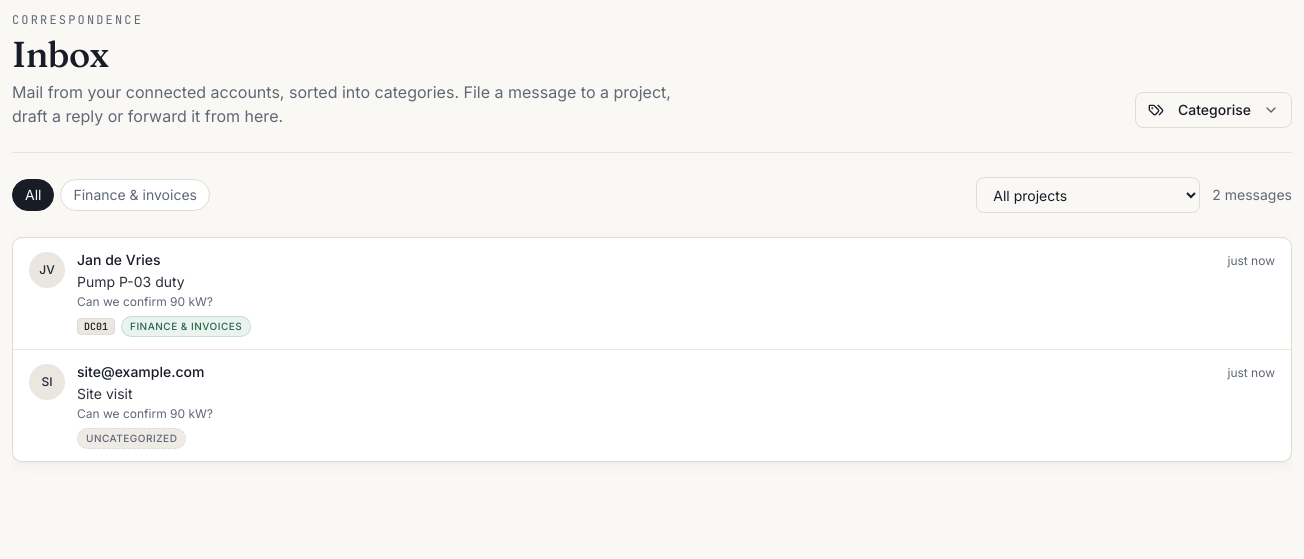
Test: InboxPage › shows one pane at a time on a narrow screen, with a way back
Step 1. Click the button that starts with "site@example.com" → (47, 382), box [13, 350, 1291, 461]
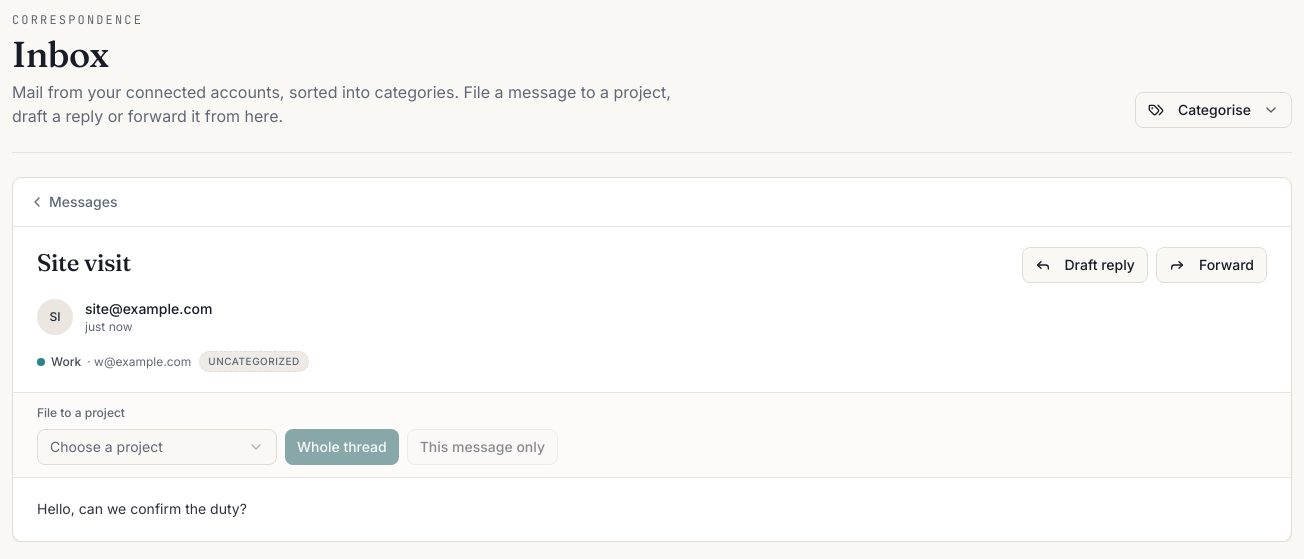
Now the element "Site visit" is shown
Step 2. Click the button "Messages" → (73, 202), box [21, 182, 126, 222]
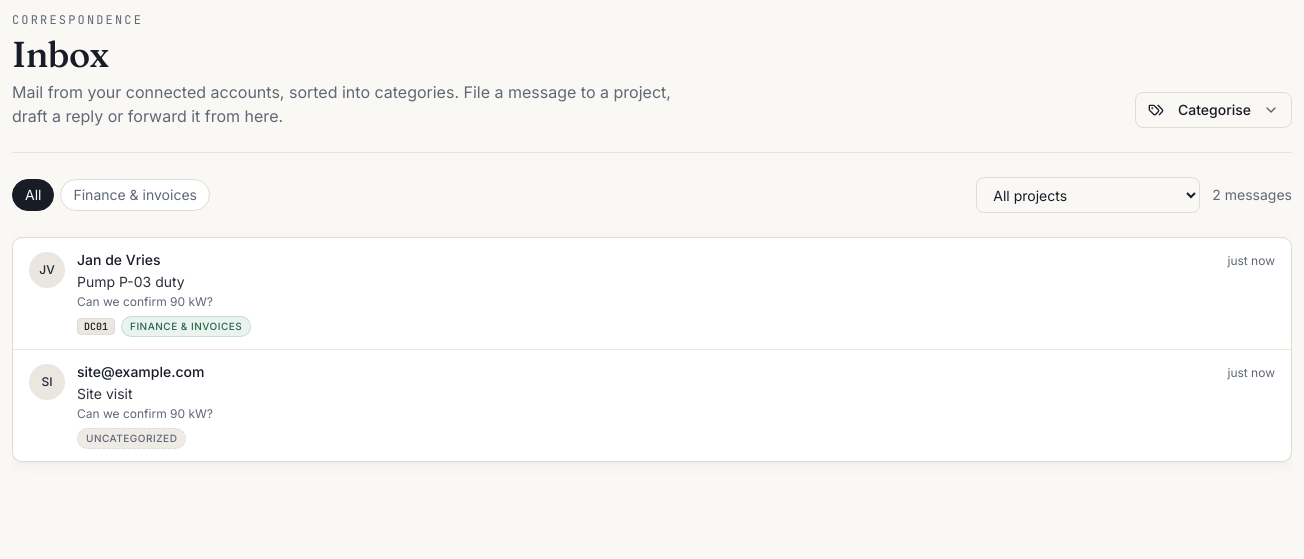
Now the list named "Messages" is shown, box [12, 237, 1292, 462]
